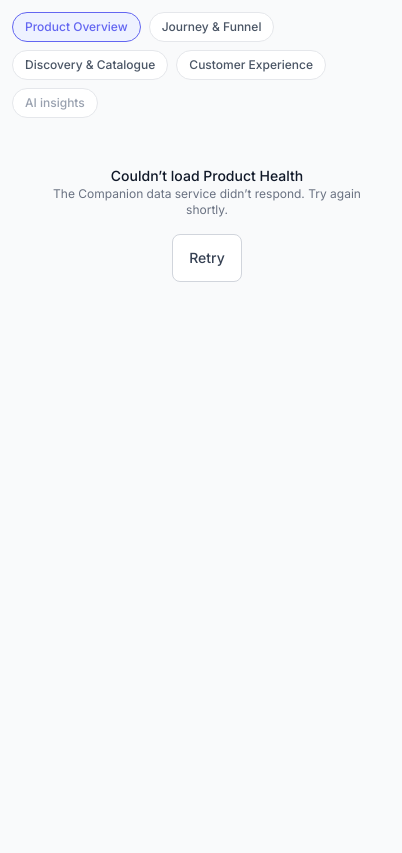
Test case: Companion Product Health live sections › shows an error and retries Product Overview without substituting mock KPIs
Click the button "Product Overview": x=76, y=27 [12, 12, 141, 42]
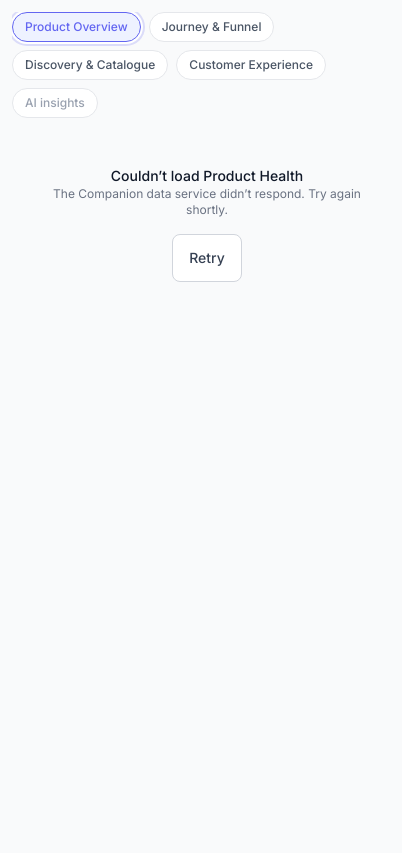
Expected: the text "Couldn’t load Product Health" is shown, [111, 167, 303, 184]
Expected: the text "7,731" is not shown
Click the button "Retry": x=207, y=258 [172, 234, 242, 282]
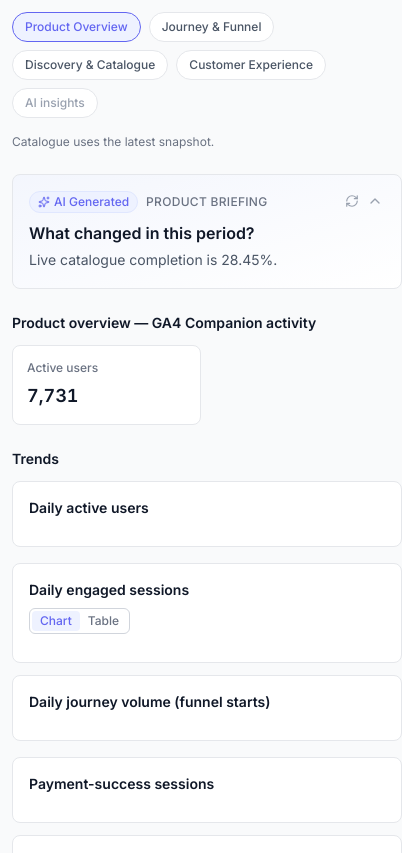
Now the text "7,731" is shown, box [27, 382, 78, 410]
Now the text "Couldn’t load Product Health" is gone
